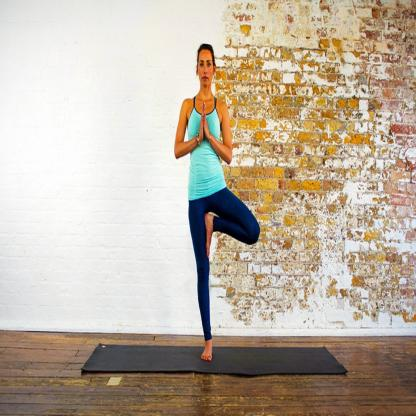tree: (170, 34, 262, 368)
